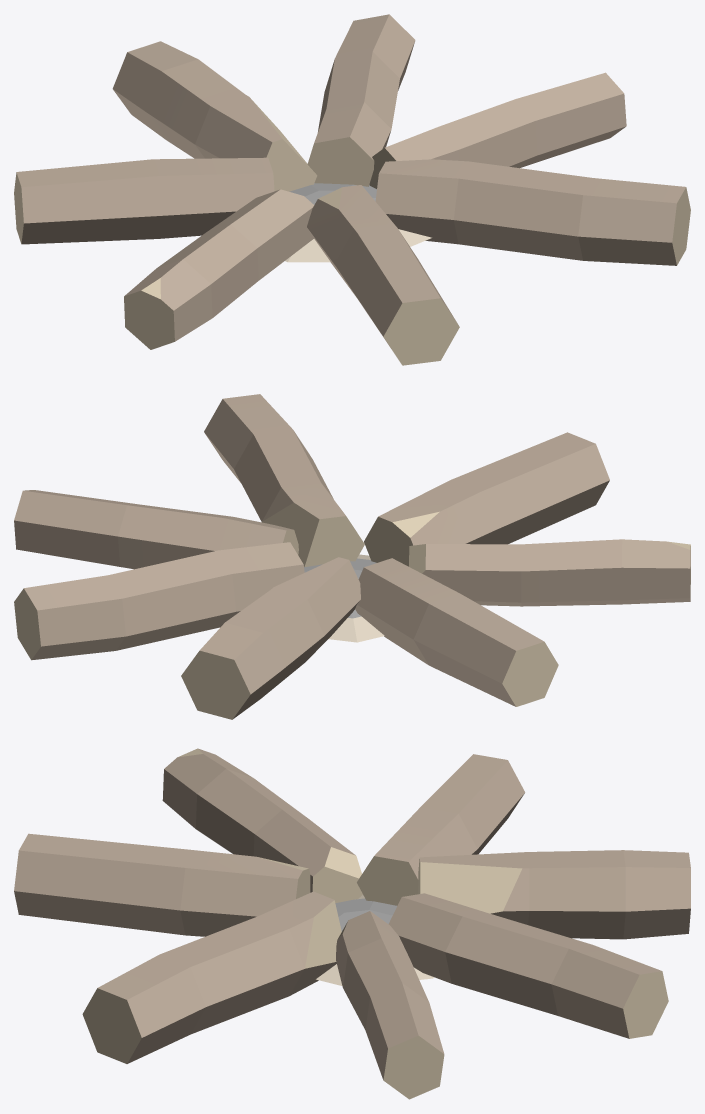
The model's file is Hilly_Prop_Camp_Campfire.glb.
3 views of the same model, one above another, from view 1: azimuth 30°, elevation 25°; view 2: azimuth 150°, elevation 25°; view 3: azimuth 270°, elevation 25° (orthographic). The views are drawn at different scales.
Parts seen in each view (by area): view 1: object3, object2, object7, object6, object5, object4, object1, object8; view 2: object1, object5, object7, object2, object6, object4, object3, object8; view 3: object3, object5, object1, object6, object7, object4, object2, object8.
Boxes of the visible parts, <box> form: object3: <box>375,159,690,265</box>; object2: <box>14,157,274,244</box>; object7: <box>124,189,314,349</box>; object6: <box>112,41,317,191</box>; object5: <box>307,185,459,365</box>; object4: <box>370,72,626,188</box>; object1: <box>307,14,415,186</box>; object8: <box>285,183,431,262</box>; object1: <box>14,542,304,660</box>; object5: <box>364,432,609,566</box>; object7: <box>409,539,690,606</box>; object2: <box>355,558,558,706</box>; object6: <box>181,557,360,719</box>; object4: <box>14,490,298,569</box>; object3: <box>204,394,364,567</box>; object8: <box>304,554,384,642</box>; object3: <box>82,891,341,1063</box>; object5: <box>14,833,310,936</box>; object1: <box>388,893,668,1038</box>; object6: <box>418,850,690,939</box>; object7: <box>162,748,362,902</box>; object4: <box>336,911,444,1099</box>; object2: <box>357,754,525,905</box>; object8: <box>316,895,434,985</box>.
Size of the model in its own units: 1.43 by 0.1839 by 1.4.
